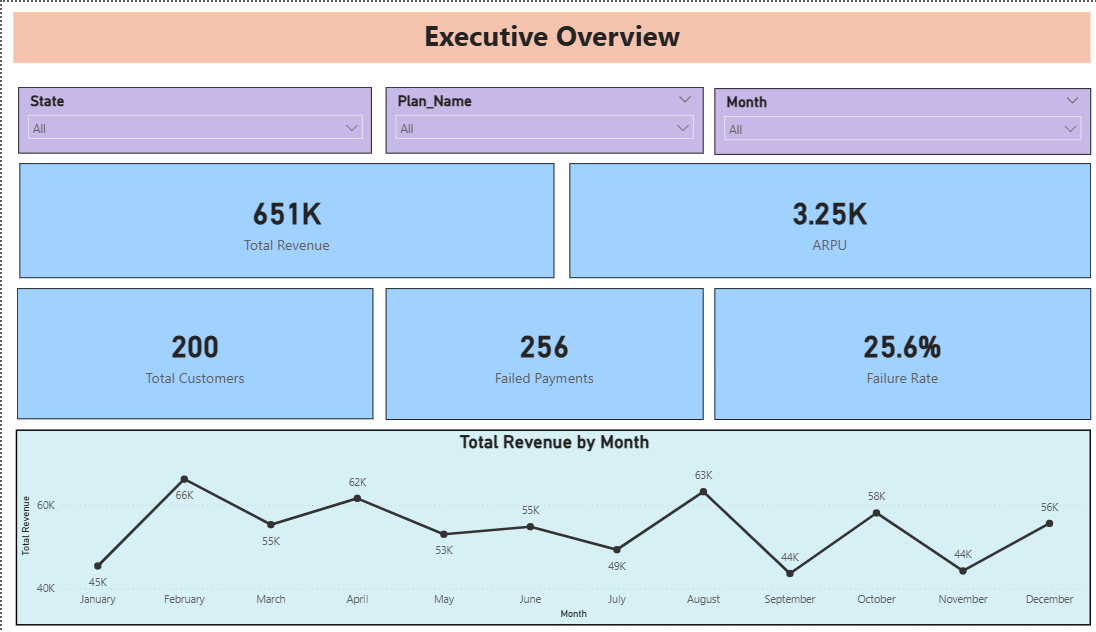

This screenshot's page, from the dashboard's own definition file:
{"tool":"powerbi","page":{"name":"Page 1","canvas":[1280,720],"ordinal":0},"visuals":[{"type":"card","fields":{"Values":["Billing.Total Revenue"]},"box":[19.7,184.6,611.4,131.4],"z":0},{"type":"card","fields":{"Values":["Customers.ARPU"]},"box":[648.6,184.3,595.7,131.4],"z":1000},{"type":"card","fields":{"Values":["Customers.Total Customers"]},"box":[17,327.1,407.6,149.5],"z":2000},{"type":"card","fields":{"Values":["Billing.Failed Payments"]},"box":[438.6,327.1,362.9,150],"z":3000},{"type":"card","fields":{"Values":["Billing.Failure Rate"]},"box":[814.3,327.1,430,150],"z":4000},{"type":"lineChart","fields":{"Category":["Billing.Bill_Month.Variation.Date Hierarchy.Month"],"Y":["Billing.Total Revenue"]},"box":[15.7,488.6,1228.6,224.3],"z":5000},{"type":"textbox","box":[12.9,11.4,1231.4,58.6],"z":6000},{"type":"slicer","fields":{"Values":["Customers.State"]},"box":[18.6,97.1,404.3,75.7],"z":7000},{"type":"slicer","fields":{"Values":["Billing.Bill_Month.Variation.Date Hierarchy.Month"]},"box":[814.3,98.6,430,75.7],"z":8000},{"type":"slicer","fields":{"Values":["Plans.Plan_Name"]},"box":[438.6,97.1,362.9,75.7],"z":9000}]}

Visuals, with their boxes in screenshot pixels (x1, y1, x2, y2), scaled from the page's 1280x720 canvas onto the 1096x632 screenshot:
card - Billing.Total Revenue: (x1=17, y1=162, x2=540, y2=277)
card - Customers.ARPU: (x1=555, y1=162, x2=1065, y2=277)
card - Customers.Total Customers: (x1=15, y1=287, x2=364, y2=418)
card - Billing.Failed Payments: (x1=376, y1=287, x2=686, y2=419)
card - Billing.Failure Rate: (x1=697, y1=287, x2=1065, y2=419)
lineChart - Billing.Bill_Month.Variation.Date Hierarchy.Month x Billing.Total Revenue: (x1=13, y1=429, x2=1065, y2=626)
textbox: (x1=11, y1=10, x2=1065, y2=61)
slicer - Customers.State: (x1=16, y1=85, x2=362, y2=152)
slicer - Billing.Bill_Month.Variation.Date Hierarchy.Month: (x1=697, y1=87, x2=1065, y2=153)
slicer - Plans.Plan_Name: (x1=376, y1=85, x2=686, y2=152)
